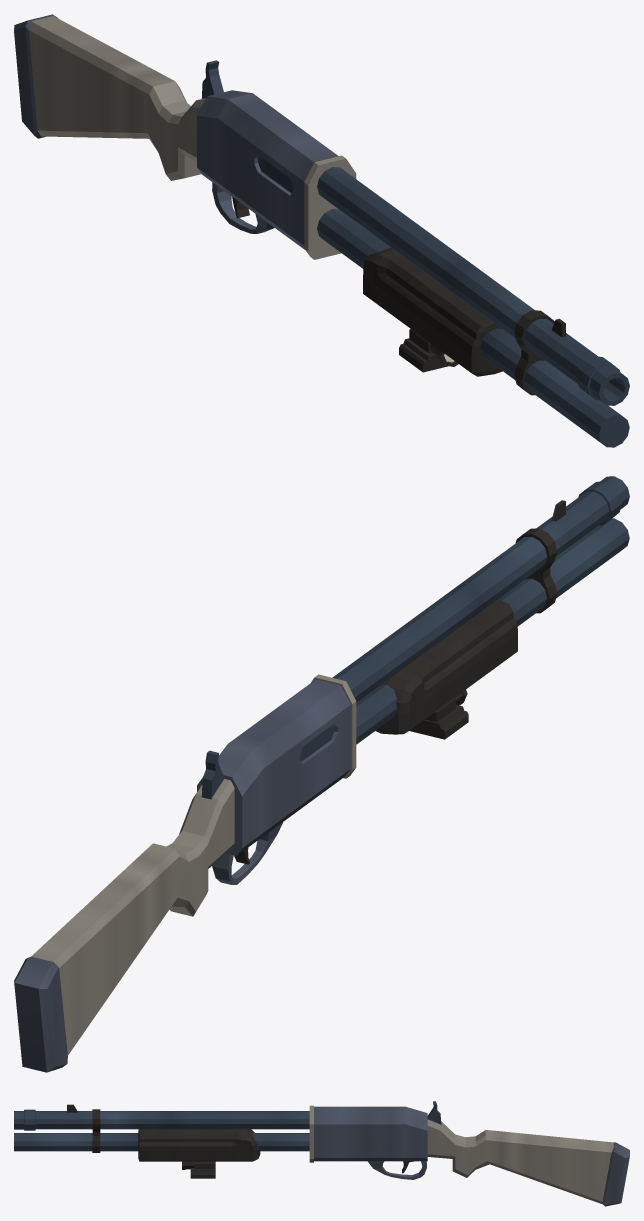
3 renders of one model, top to bottom at view 1: azimuth 30°, elevation 25°; view 2: azimuth 150°, elevation 25°; view 3: azimuth 270°, elevation 25°, orthographic. The views are drawn at different scales.
Visible parts, largest first — view 1: breacher12; view 2: breacher12; view 3: breacher12.
Part boxes in pixels (x1,y1,x2,y2): breacher12: (14,14,629,447); breacher12: (14,476,629,1072); breacher12: (14,1101,629,1206).
Bounding box in the file's own units: 0.0473 × 0.1808 × 1.
Materials: 1 (1 with a texture image).
